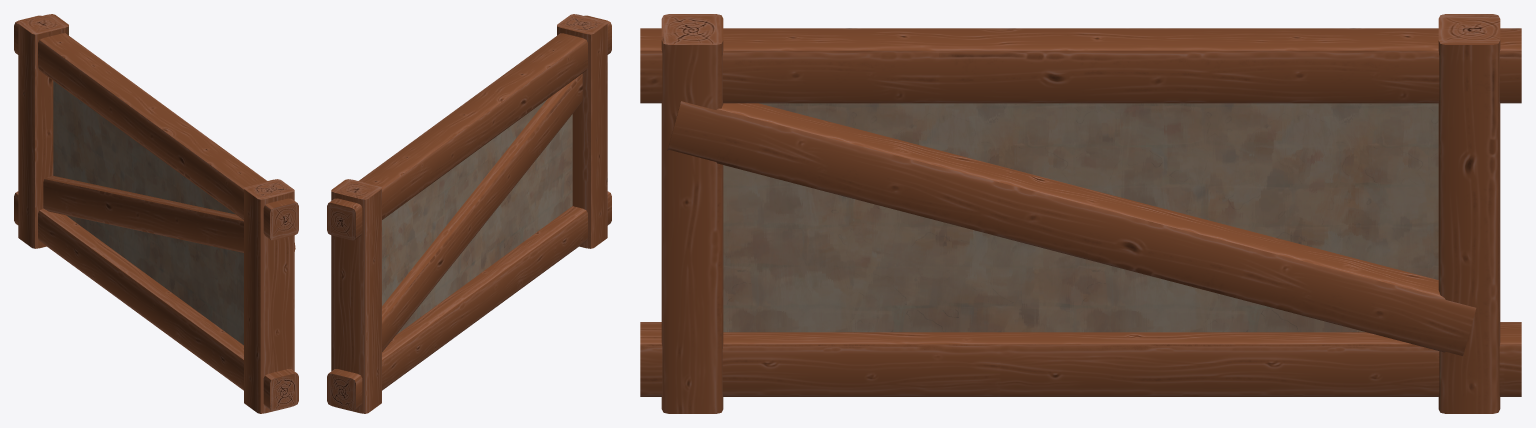
File: SM_Wood_Wall_02.fbx
3 renders of one model, left to right at view 1: azimuth 30°, elevation 25°; view 2: azimuth 150°, elevation 25°; view 3: azimuth 270°, elevation 25°, orthographic. The views are drawn at different scales.
Visible parts, largest first — view 1: SM_Wood_Wall_02_LOD0; view 2: SM_Wood_Wall_02_LOD0; view 3: SM_Wood_Wall_02_LOD0.
Boxes of the visible parts, <box> form: SM_Wood_Wall_02_LOD0: <box>14,14,298,413</box>; SM_Wood_Wall_02_LOD0: <box>327,14,611,413</box>; SM_Wood_Wall_02_LOD0: <box>640,14,1521,413</box>.
Size of the model in its own units: 58.18 by 682 by 315.
2 materials, 2 textured.
